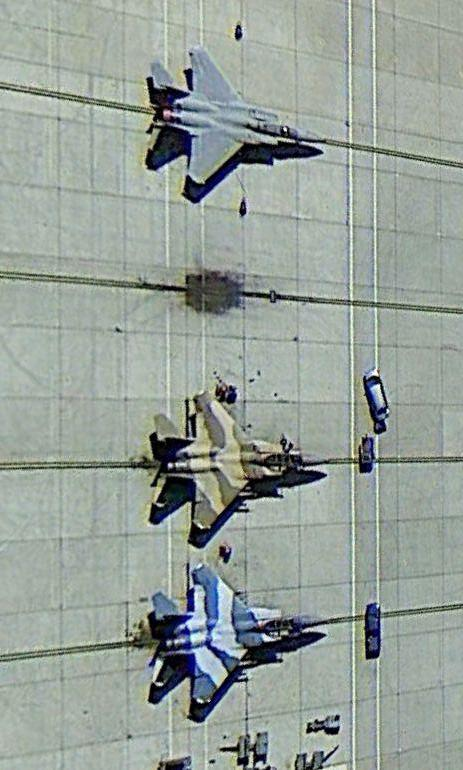F-15: (142, 41, 321, 198), (143, 562, 324, 717), (148, 390, 336, 539)
